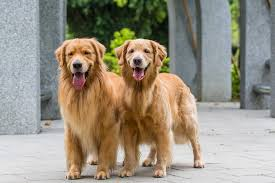Bulldog: (114, 40, 219, 175), (43, 22, 118, 180)
